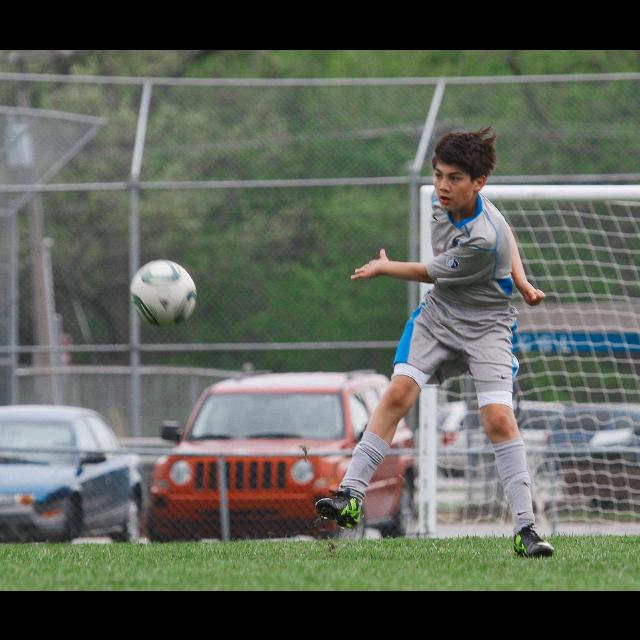Football: (125, 259, 198, 325)
